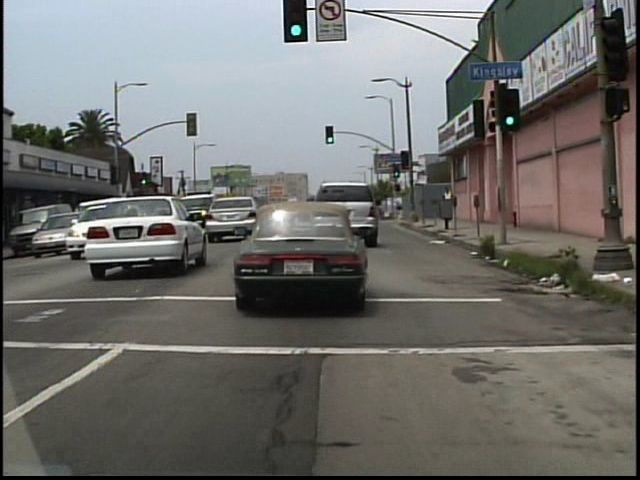person: (441, 185, 455, 222)
